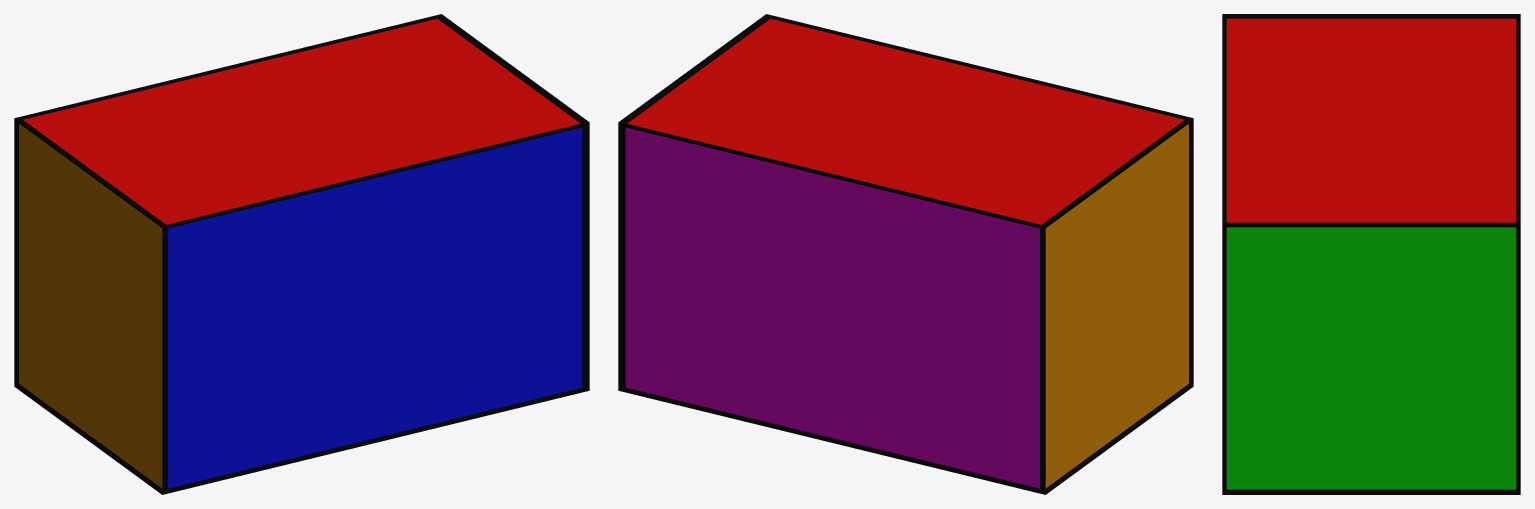
Rendered from Cube_Wired.obj.
3 views of the same model, side by side, from view 1: azimuth 30°, elevation 25°; view 2: azimuth 150°, elevation 25°; view 3: azimuth 270°, elevation 25° (orthographic).
Parts seen in each view (by area): view 1: Cube; view 2: Cube; view 3: Cube.
Part boxes in pixels (x1,y1,x2,y2): Cube: (14, 14, 589, 494); Cube: (618, 14, 1193, 494); Cube: (1222, 14, 1520, 494).
Size of the model in its own units: 2.02 by 1.21 by 1.21.
